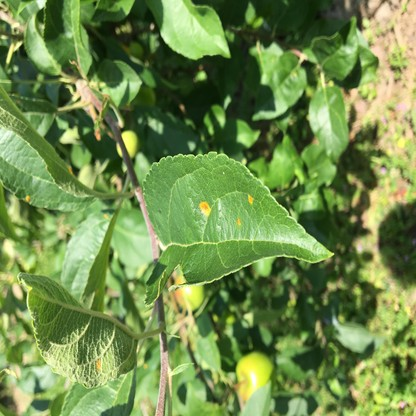rust: (200, 200, 212, 215), (247, 192, 253, 204), (96, 359, 100, 368), (142, 362, 148, 368), (68, 165, 72, 173), (237, 217, 240, 224), (24, 195, 28, 200), (103, 212, 107, 217)
